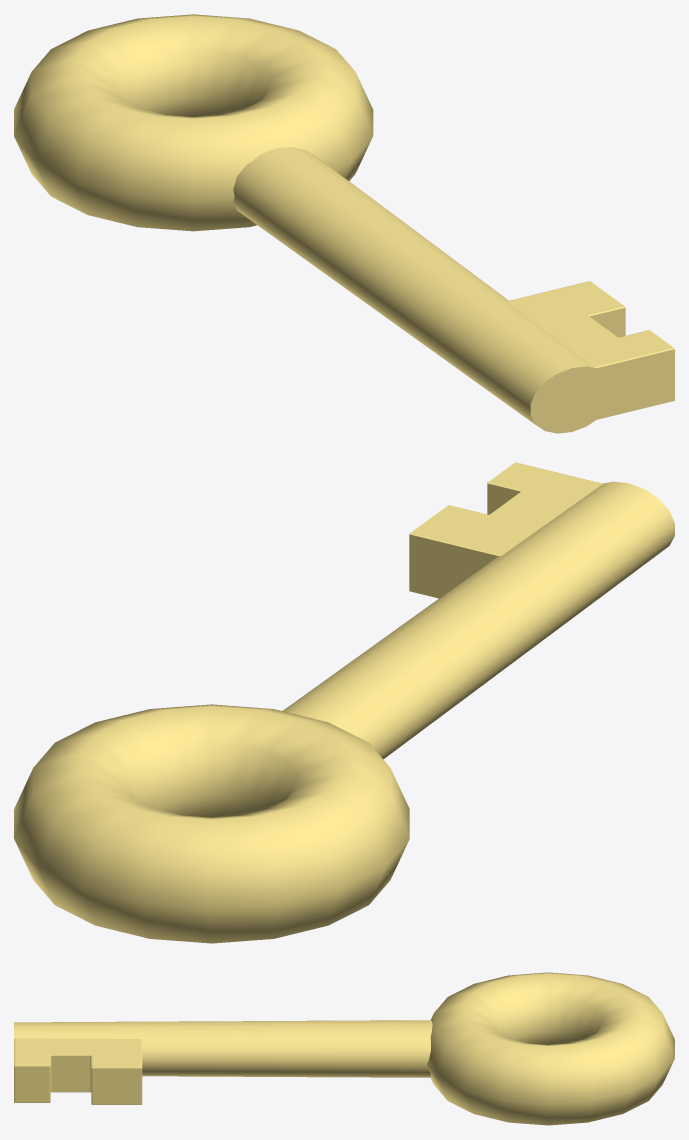
File: KeyModel.fbx
3 renders of one model, top to bottom at view 1: azimuth 30°, elevation 25°; view 2: azimuth 150°, elevation 25°; view 3: azimuth 270°, elevation 25°, orthographic. The views are drawn at different scales.
Visible parts, largest first — view 1: KeyModel; view 2: KeyModel; view 3: KeyModel.
Part boxes in pixels (bbox=[...]): KeyModel: bbox=[14, 14, 674, 433]; KeyModel: bbox=[14, 462, 674, 943]; KeyModel: bbox=[14, 972, 674, 1125].
Bounding box in the file's own units: 76.75 × 25.58 × 197.
